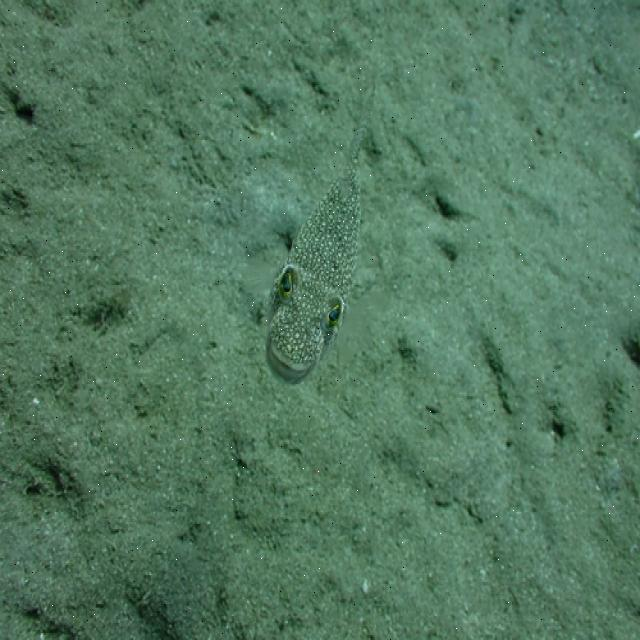Balik: (267, 96, 372, 383)
